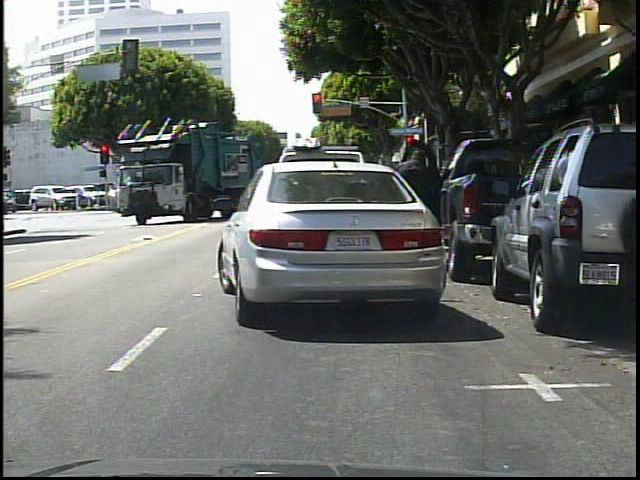person: (389, 144, 448, 279)
